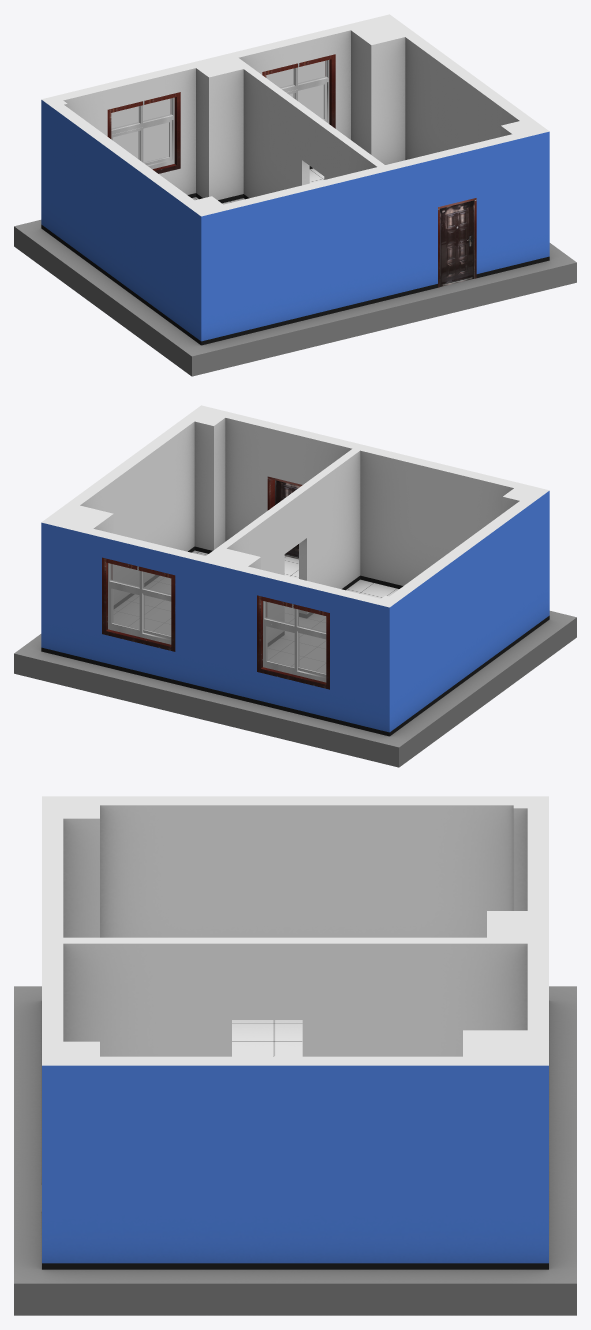
File: room_jf_xl_3f.glb
3 renders of one model, top to bottom at view 1: azimuth 30°, elevation 25°; view 2: azimuth 150°, elevation 25°; view 3: azimuth 270°, elevation 25°, orthographic. The views are drawn at different scales.
Visible parts, largest first — view 1: qiang, di, chuang, jf_xl_3f_men, chuang001; view 2: qiang, di, chuang001, chuang, jf_xl_3f_men; view 3: qiang, di.
Boxes of the visible parts, box(x1,y1,x2,y2) form: qiang: box(41, 14, 549, 345); di: box(14, 168, 576, 376); chuang: box(107, 92, 180, 173); jf_xl_3f_men: box(438, 198, 476, 287); chuang001: box(262, 54, 335, 128); qiang: box(41, 405, 549, 736); di: box(14, 550, 576, 767); chuang001: box(102, 557, 175, 651); chuang: box(257, 595, 329, 689); jf_xl_3f_men: box(267, 476, 302, 559); qiang: box(42, 796, 548, 1269); di: box(14, 986, 576, 1315).
Size of what is drawn, in the model's own units: 10 by 3.7 by 8.
5 materials, 4 textured.
